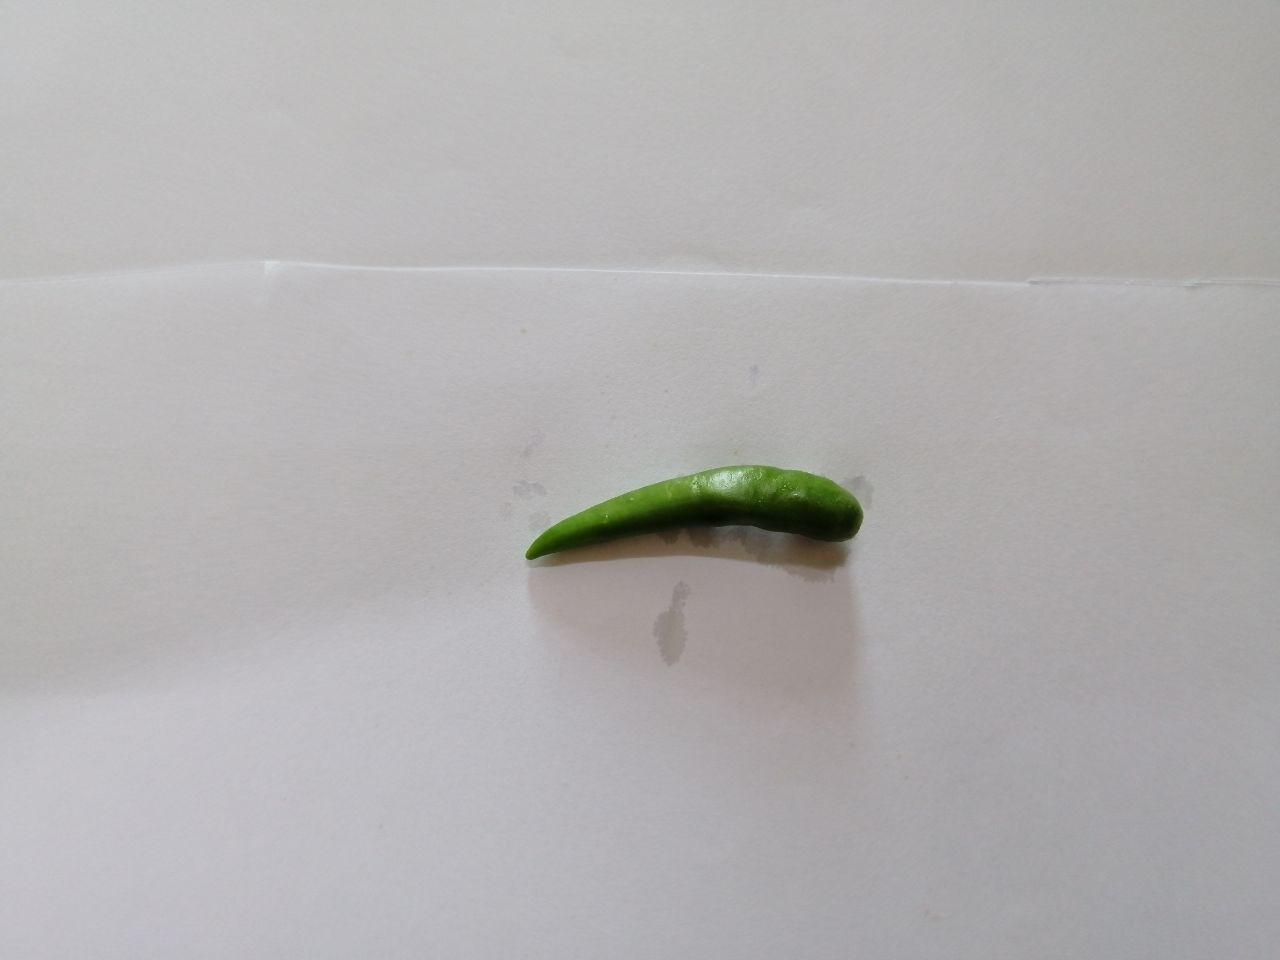lada hijau: (505, 439, 885, 605)
